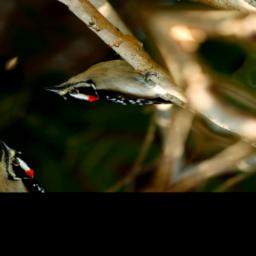Woodpecker: (40, 34, 212, 159)
